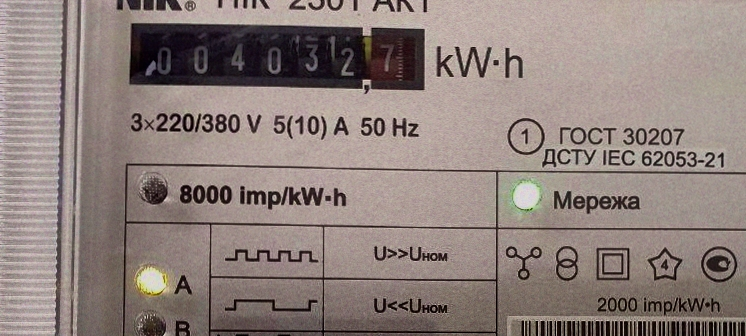0: (190, 42, 210, 75), (154, 42, 173, 75), (264, 42, 283, 75)
2: (338, 43, 356, 77)
3: (302, 40, 320, 72)
4: (227, 39, 247, 75)
7: (379, 40, 396, 73)
screen: (119, 14, 433, 101)
